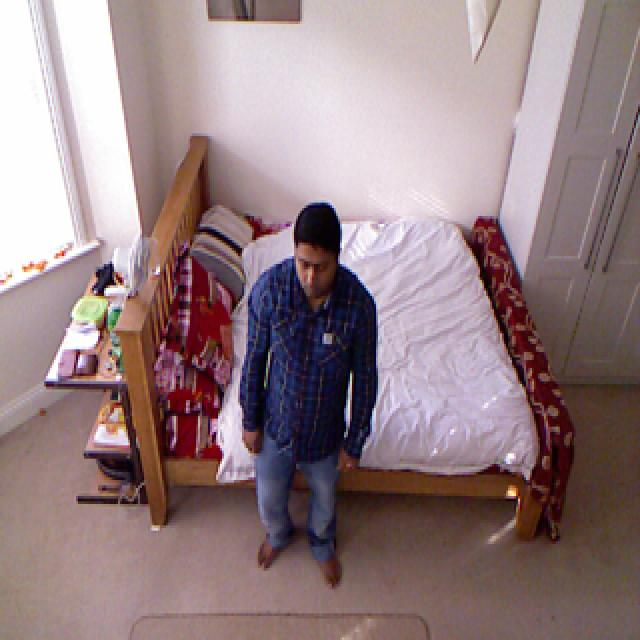standing: (238, 202, 377, 588)
